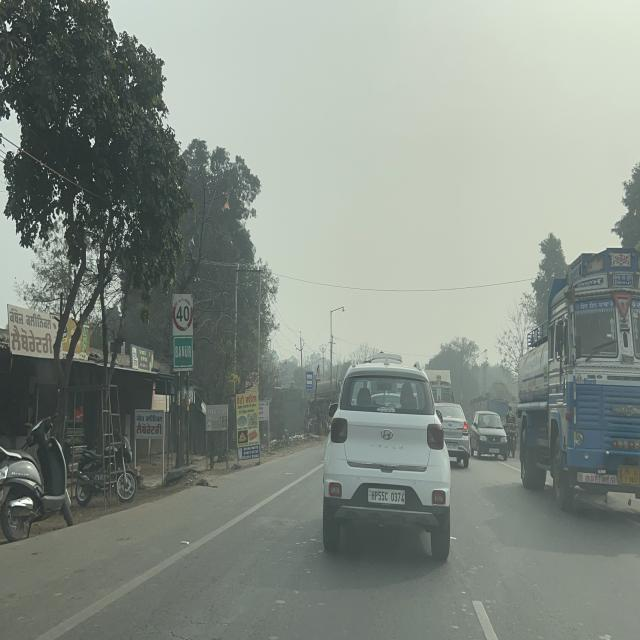GENERAL: (173, 336, 193, 368)
INFORMATION: (306, 372, 313, 388)
SPEED_LIMIT_40: (172, 297, 193, 331)
STAGGERED_INTERSECTION: (315, 365, 320, 381)
